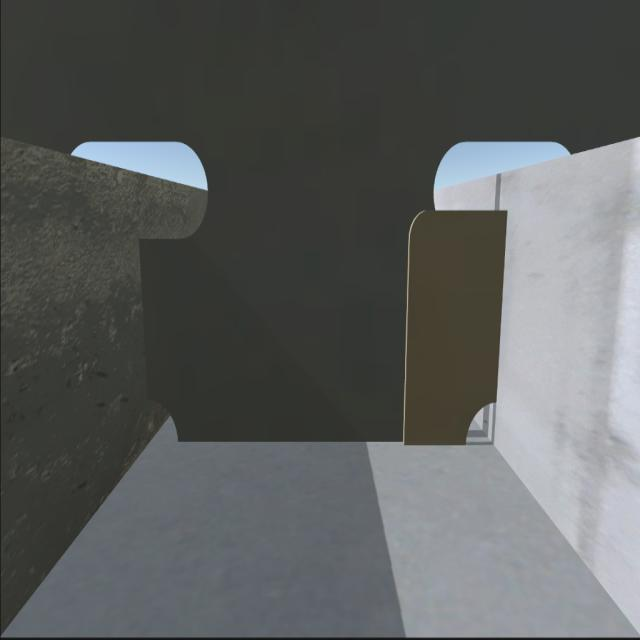fillet_hole: (459, 388, 499, 448), (147, 394, 183, 445)
fillet_yong_jeop_jang: (178, 433, 465, 458)
longi_yong_jeop_jang: (486, 203, 510, 397), (132, 240, 154, 398)
plate_CP05: (406, 207, 494, 435)
